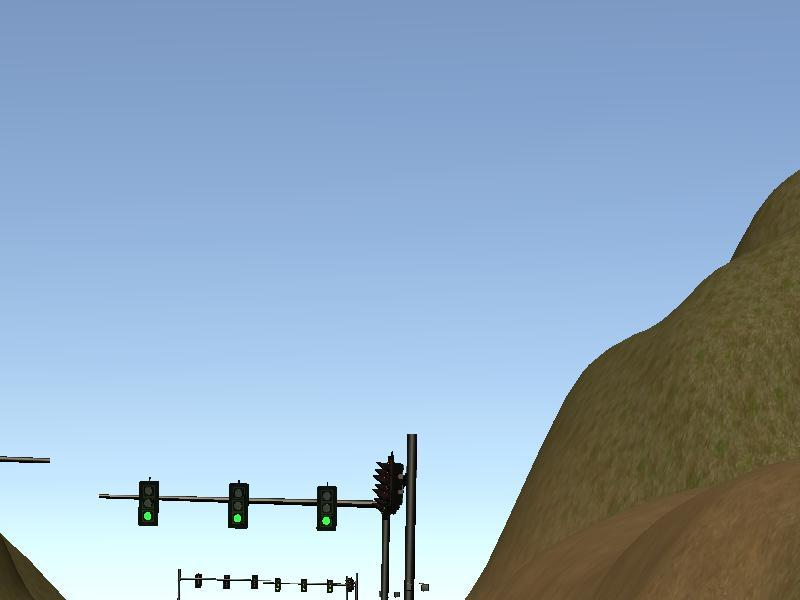Green: (316, 487, 337, 531), (139, 480, 158, 527), (231, 484, 248, 529)
